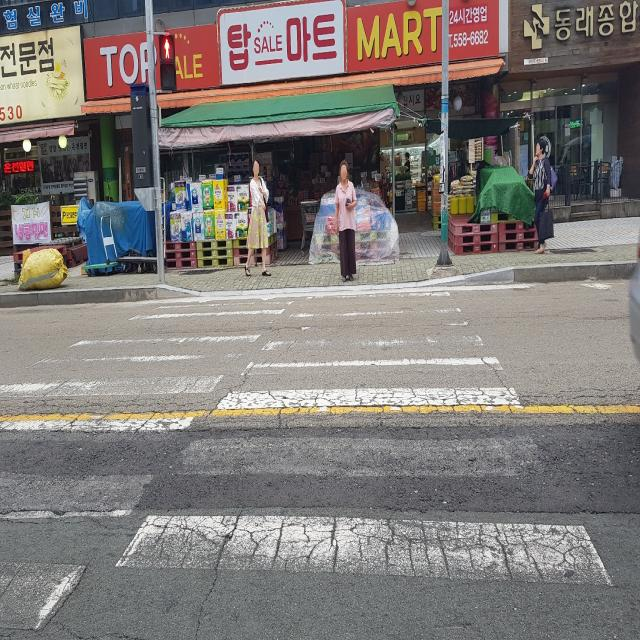빨간불: (158, 34, 176, 91)
횡단보도: (6, 288, 626, 634)
